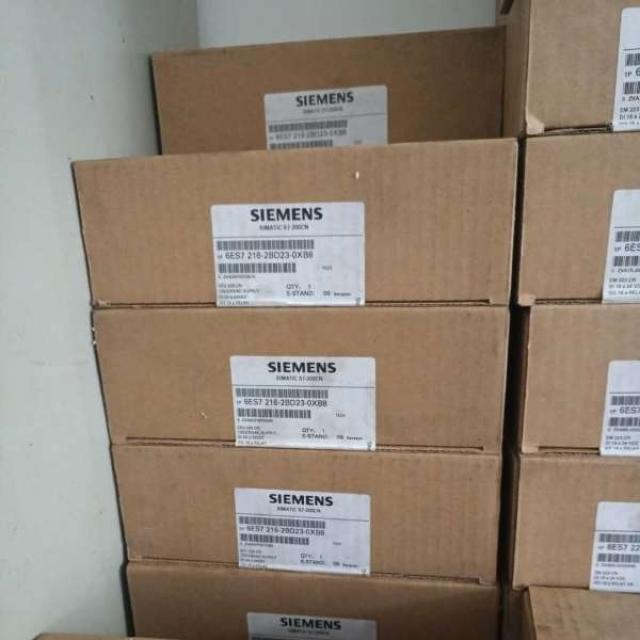box: (73, 138, 518, 307), (92, 306, 509, 454), (111, 445, 502, 584), (151, 25, 506, 155), (126, 562, 498, 639), (510, 131, 639, 306), (499, 435, 639, 592), (508, 304, 639, 457), (502, 0, 639, 144), (521, 586, 639, 639), (499, 565, 528, 639), (33, 633, 178, 639)
